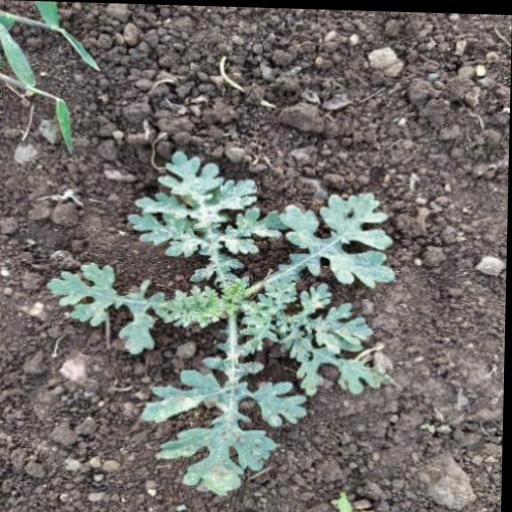weed: (44, 150, 402, 494)
